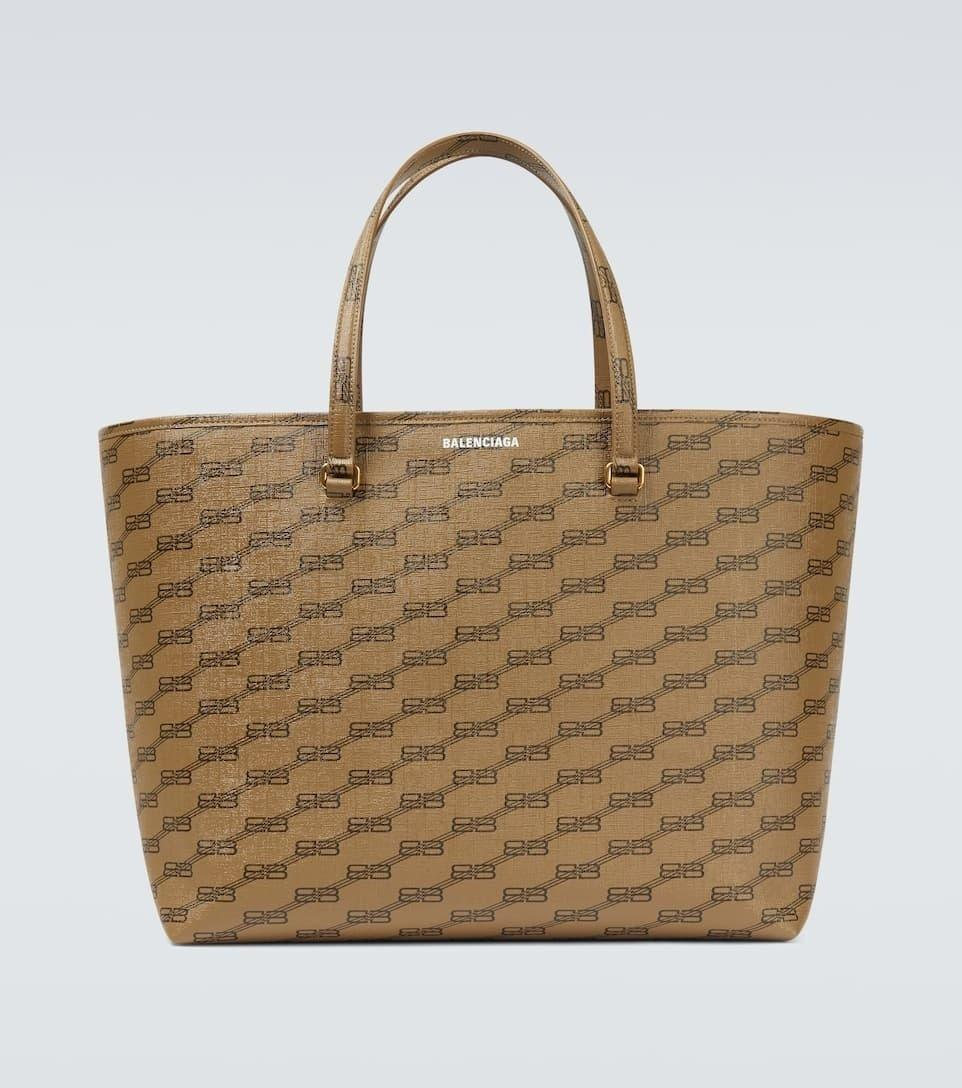BALENCIAGA: (443, 437, 520, 448)
